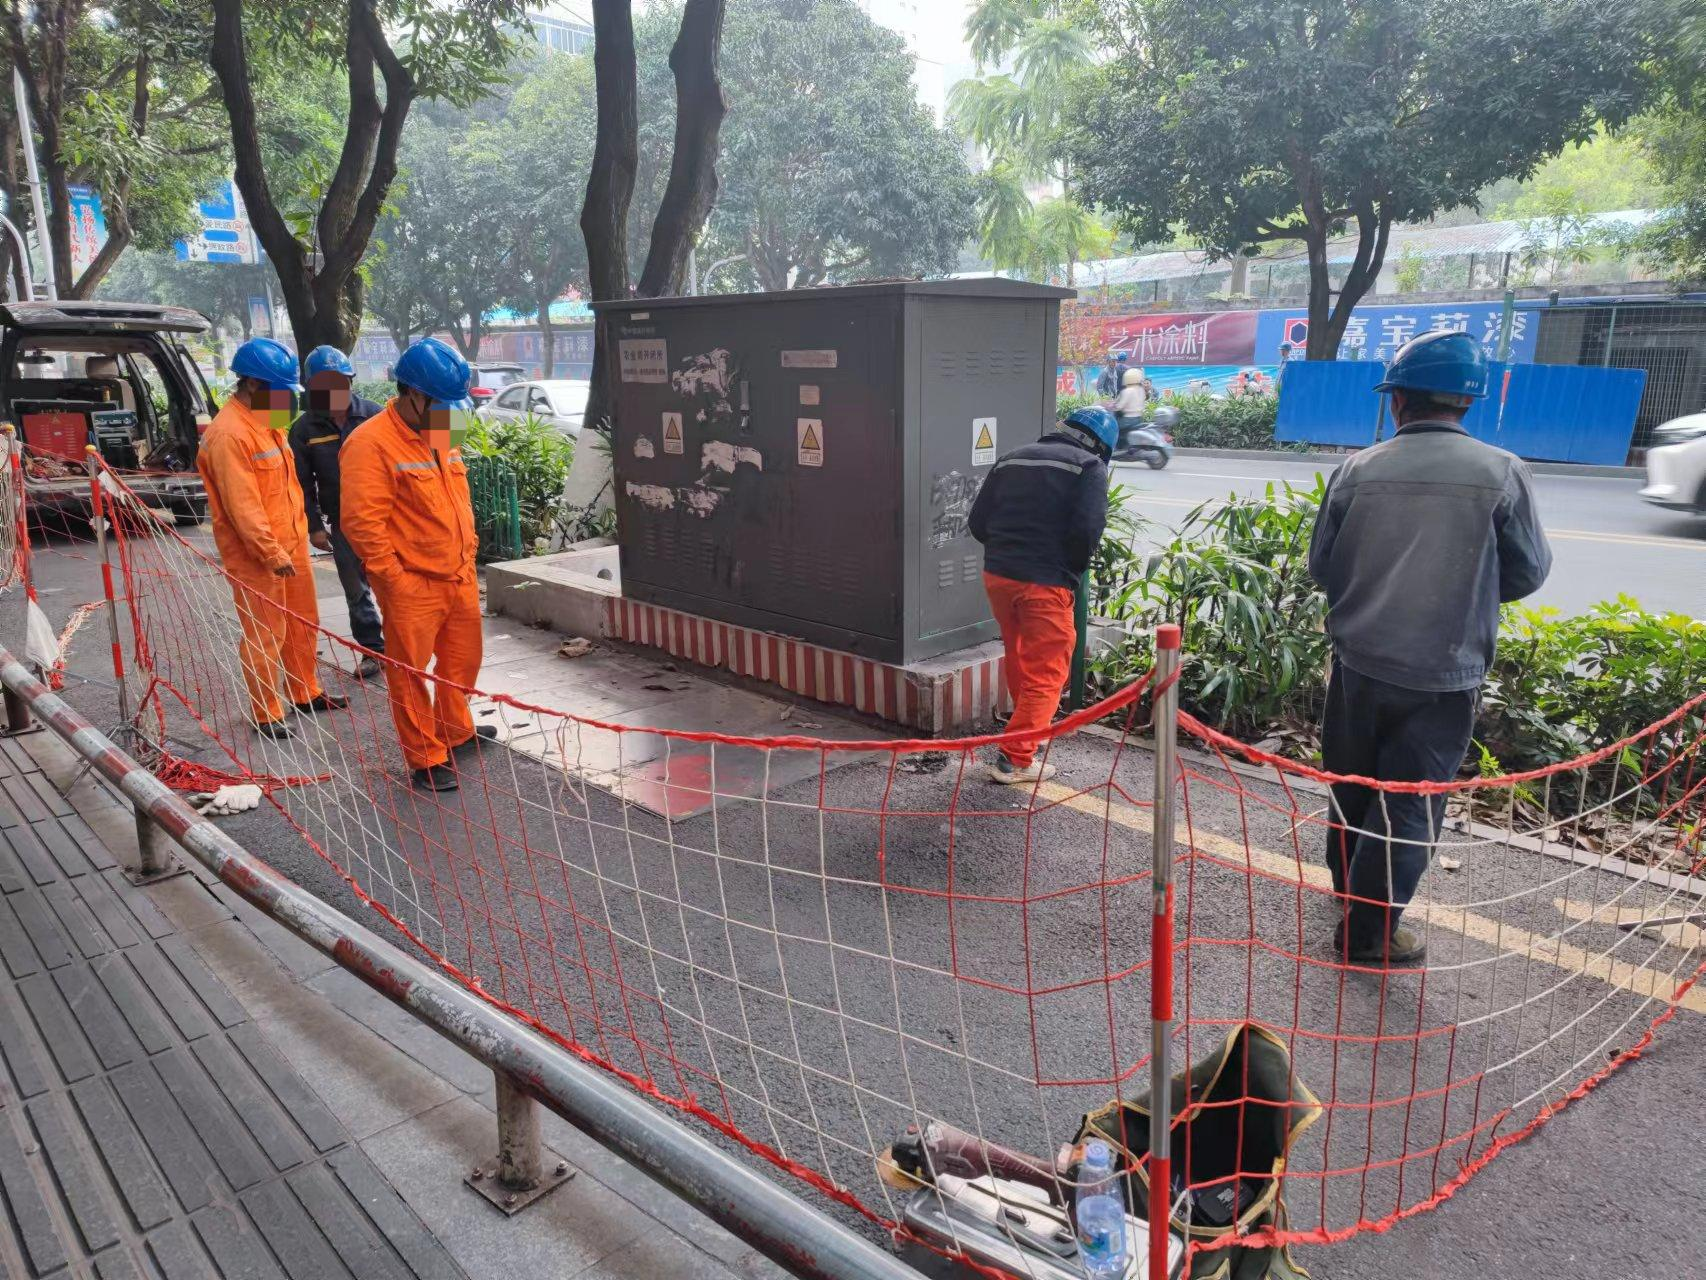halt: (1383, 333, 1488, 432), (391, 344, 471, 428), (231, 339, 302, 415), (1063, 409, 1123, 467), (307, 347, 358, 410)
inear: (403, 390, 438, 428), (245, 378, 269, 411)
